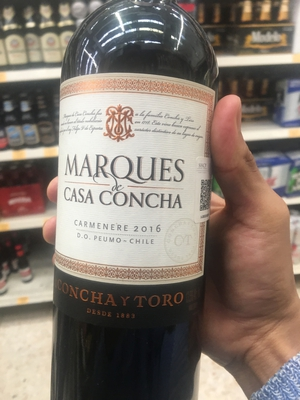marques de casa concha carmenere: (41, 23, 238, 400)
